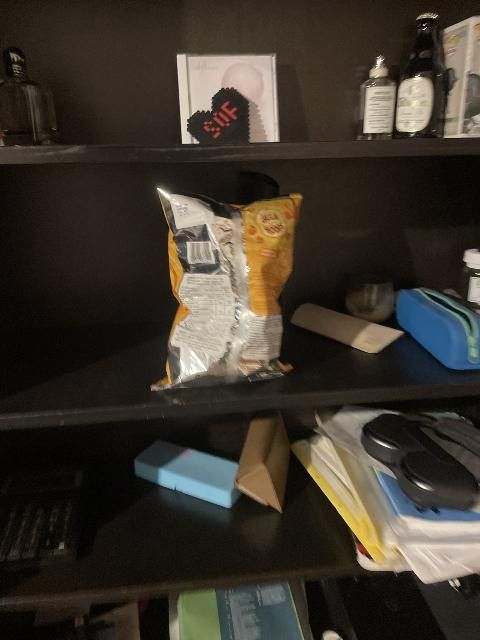Chio Hula Hoops Cheese 70g: (149, 188, 303, 385)
